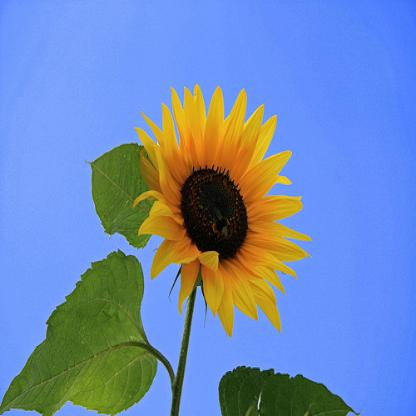SUN FLOWER: (108, 33, 345, 391)
